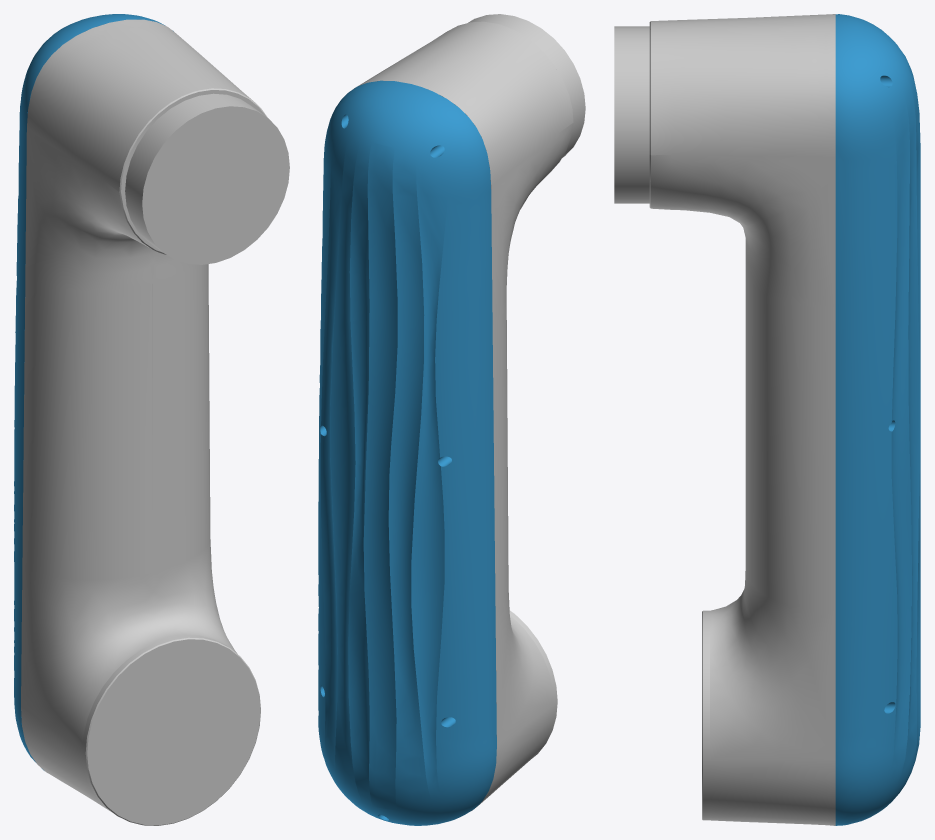
File: NOVA2_J2_ASM.gltf
3 views of the same model, side by side, from view 1: azimuth 30°, elevation 25°; view 2: azimuth 150°, elevation 25°; view 3: azimuth 270°, elevation 25° (orthographic). The views are drawn at different scales.
Parts seen in each view (by area): view 1: J2-PART1, J2-PART2; view 2: J2-PART2, J2-PART1; view 3: J2-PART1, J2-PART2.
Part boxes in pixels (box(x1,y1,x2,y2)): J2-PART1: box(21, 19, 289, 825); J2-PART2: box(14, 14, 173, 770); J2-PART2: box(318, 80, 496, 825); J2-PART1: box(354, 14, 585, 810); J2-PART1: box(614, 14, 835, 825); J2-PART2: box(835, 14, 920, 825).
Bounding box in the file's own units: 0.09 × 0.3667 × 0.1295.
